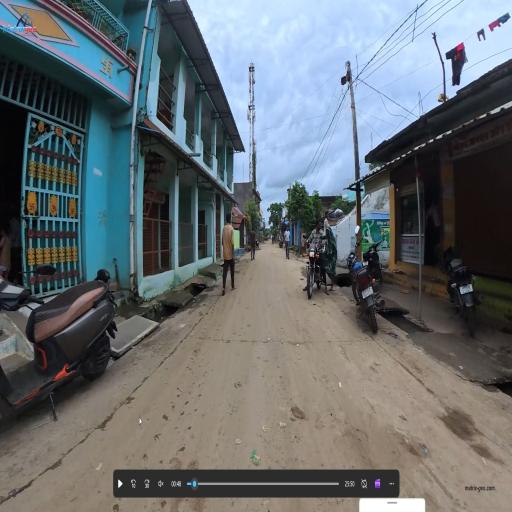longitudinal_crack: (192, 330, 308, 361)
